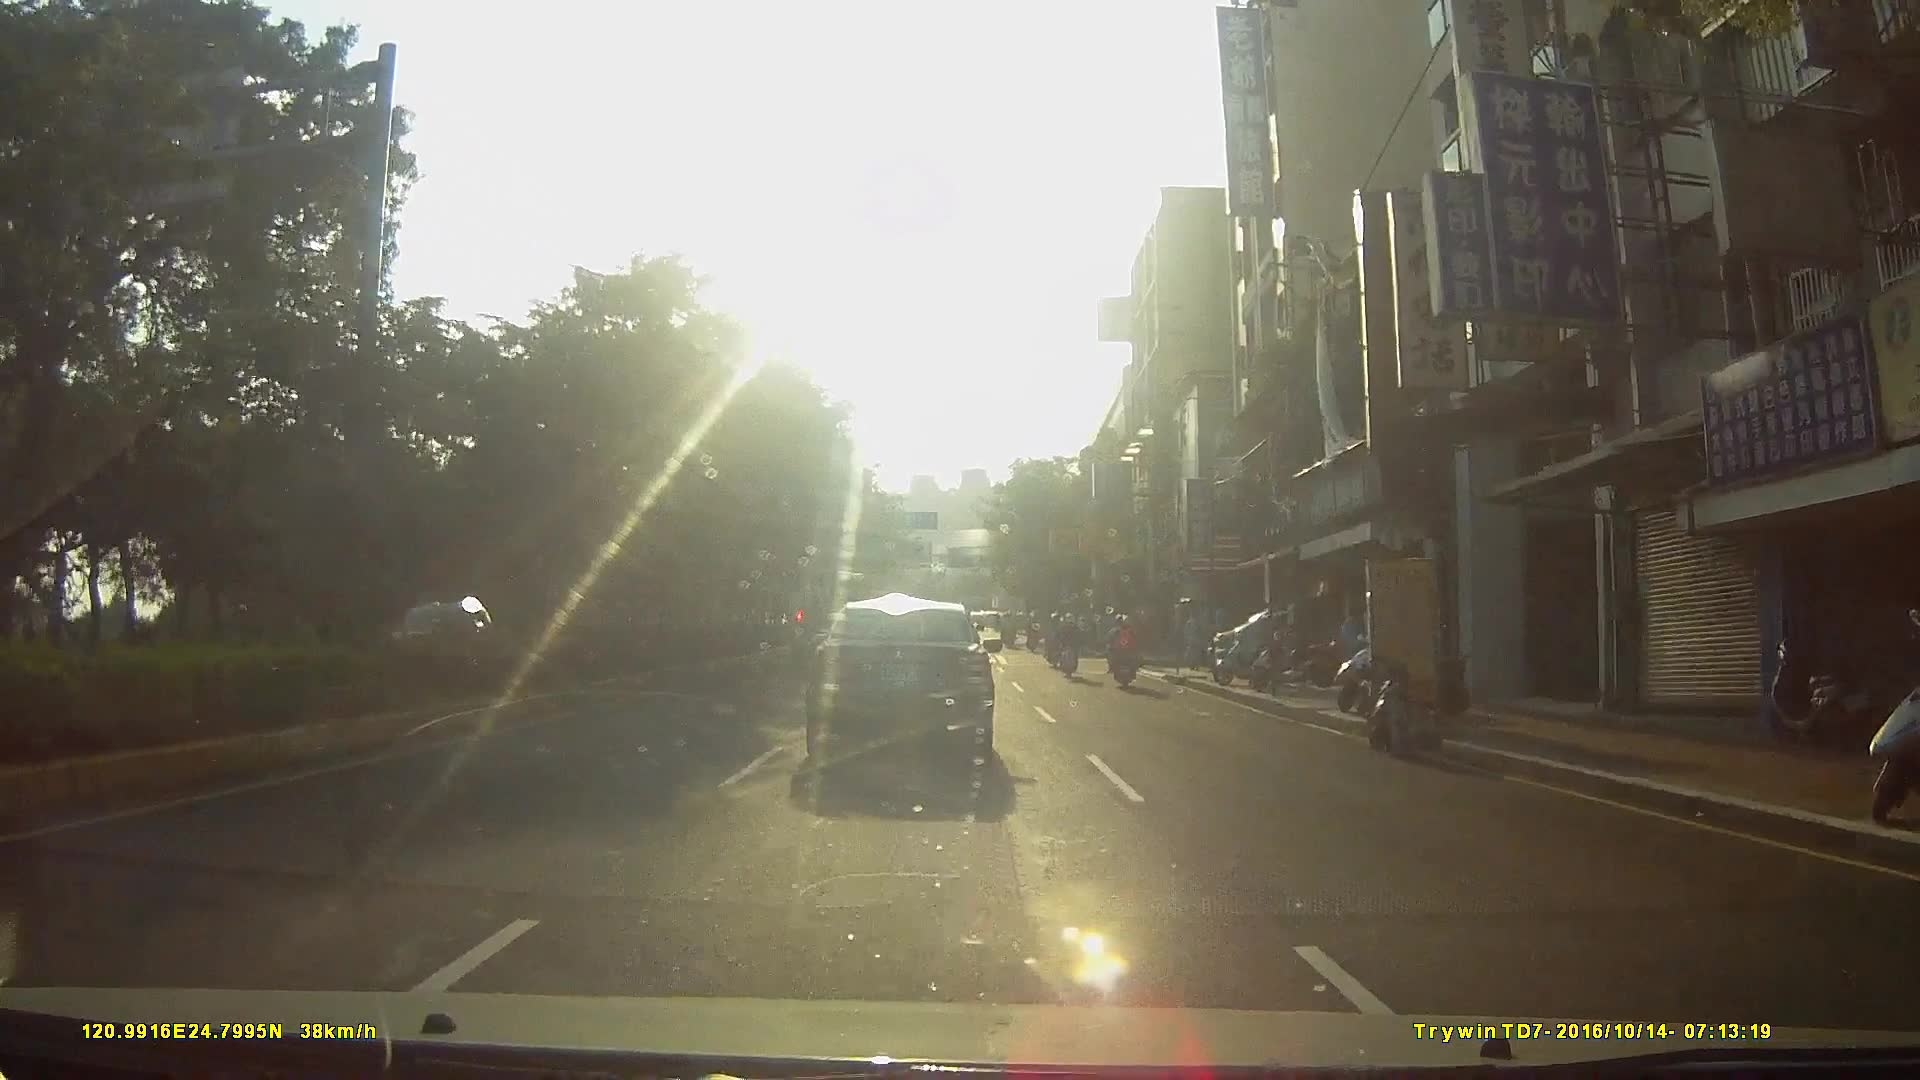rider: (1106, 614, 1139, 690), (1056, 612, 1083, 679), (1043, 613, 1067, 671)
vehicle: (803, 597, 1019, 788)
